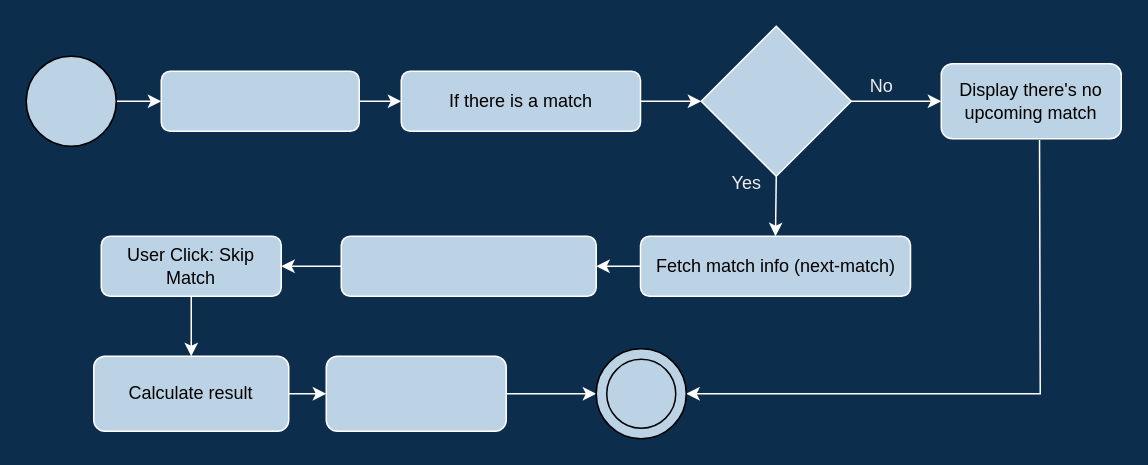
The diagram is 1148 pixels wide and 465 high, and some of its shapes have lost their labels. The box of each missing label's shape, as (x1, y1, x2, y2) in pixels:
Store result: (325, 355, 506, 431)
UI shows popup with 3 choices: (340, 235, 596, 296)
User Click "Next Match: (160, 70, 359, 131)
